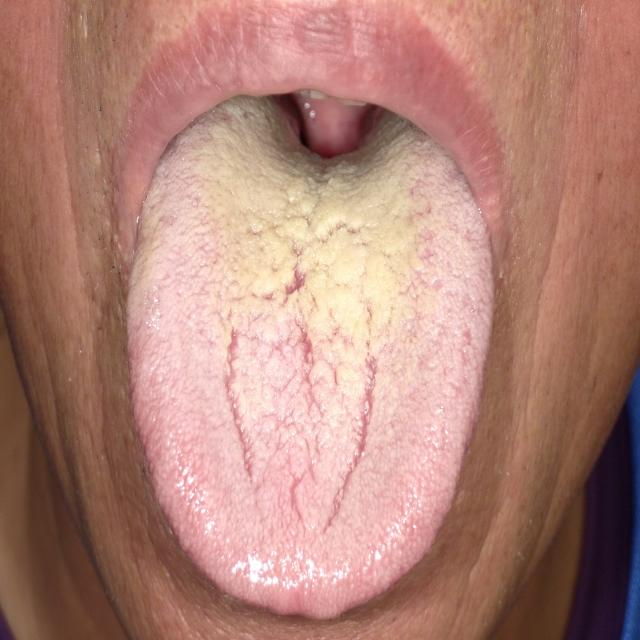huangtaishe: (125, 96, 492, 619)
liewenshe: (218, 202, 378, 535)
shenquao: (229, 95, 412, 173)
